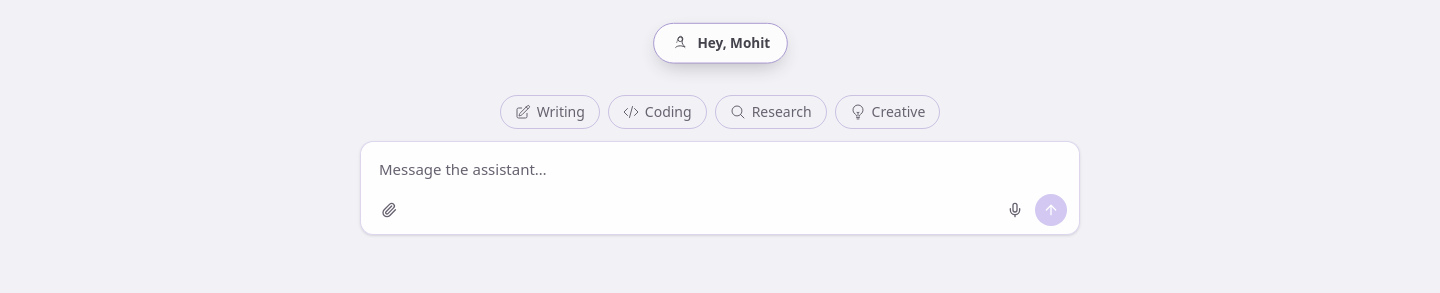
Scenario: ChatPanel › shows the landing view (greeting + suggestions) on a new/empty thread, then switches into chat mode on send
The image size is (1440, 293).
Check: the text "Hey, Mohit" is shown, box [697,33,770,53]
Type "ping" into the text box with placeholder "Message the assistant…". click: (720, 172)
box: [373,154,1067,190]
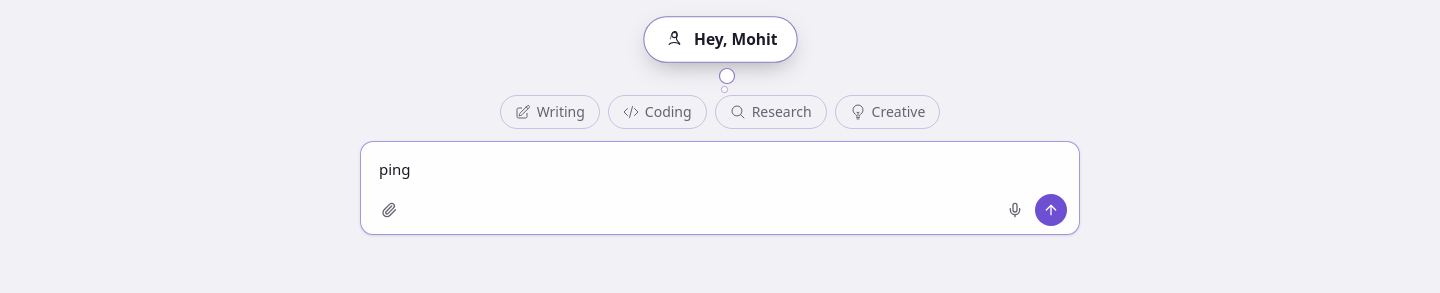
Click the button named "send". click: click(1051, 210)
box: [1035,194,1067,226]
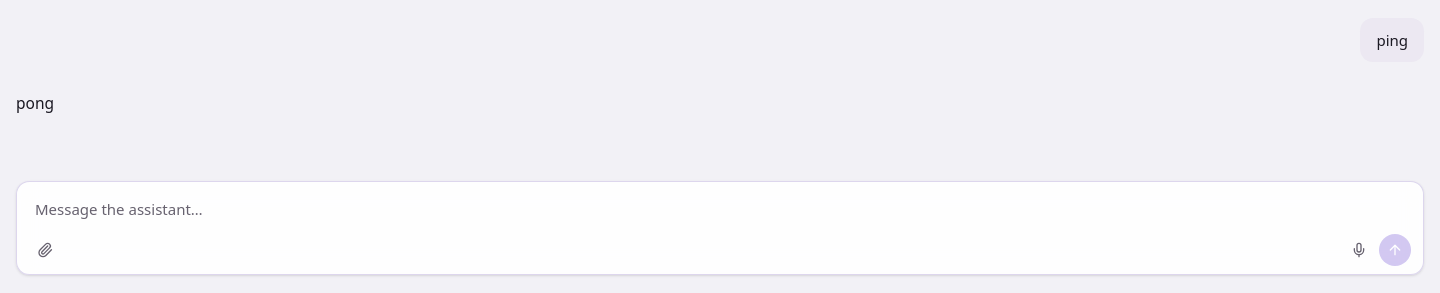
Check: the text "pong" is shown, box [16,92,54,114]
Check: the text "Hey, Mohit" is gone
